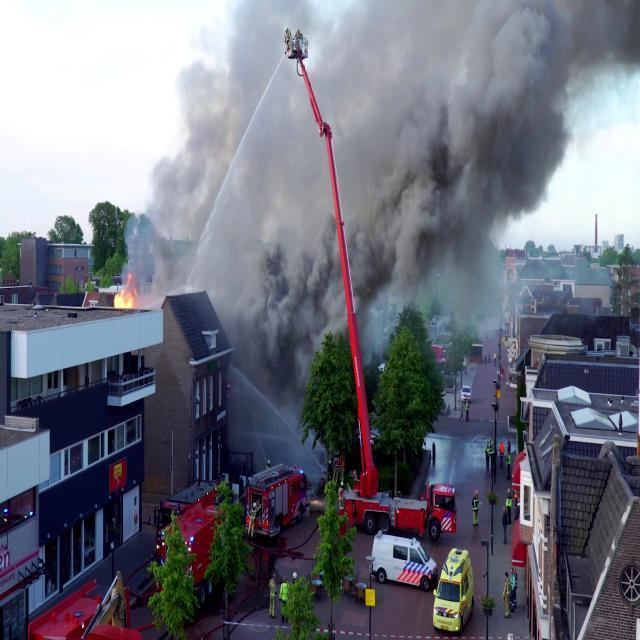Fire: (111, 274, 139, 310)
Smoke: (140, 0, 640, 321)
